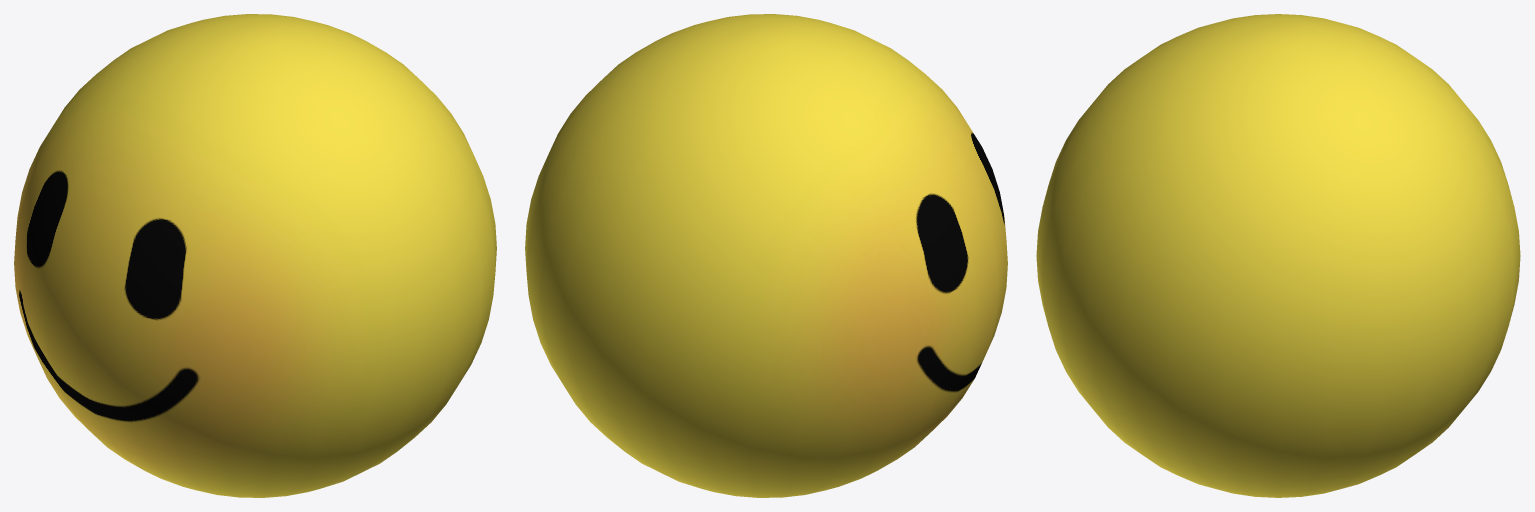
The model's file is Emoji_Ball.fbx.
The picture shows the model from 3 angles, left to right: view 1: azimuth 30°, elevation 25°; view 2: azimuth 150°, elevation 25°; view 3: azimuth 270°, elevation 25°; orthographic projection.
Parts seen in each view (by area): view 1: Ball; view 2: Ball; view 3: Ball.
Part boxes in pixels (box(x1,y1,x2,y2)): Ball: box(14, 14, 496, 497); Ball: box(525, 14, 1007, 497); Ball: box(1036, 14, 1520, 497).
Size of the model in its own units: 120 by 120 by 120.
1 material, 1 textured.
